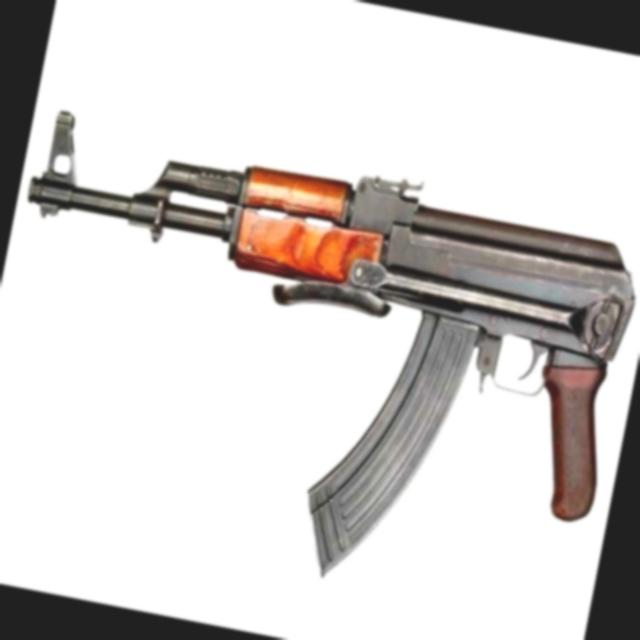ak: (0, 106, 640, 615)
